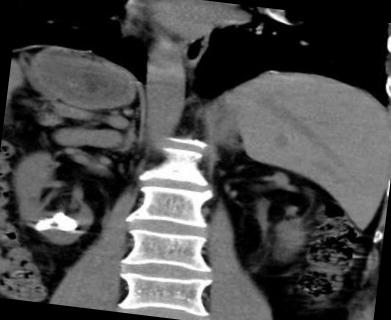Tas_Var: (50, 210, 80, 232), (31, 214, 52, 233)
